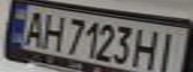1: (78, 19, 100, 58)
2: (97, 20, 118, 63)
3: (112, 23, 136, 66)
7: (63, 16, 87, 55)
A: (18, 8, 51, 47)
H: (36, 11, 69, 52), (133, 26, 163, 70)
I: (151, 29, 184, 71)
